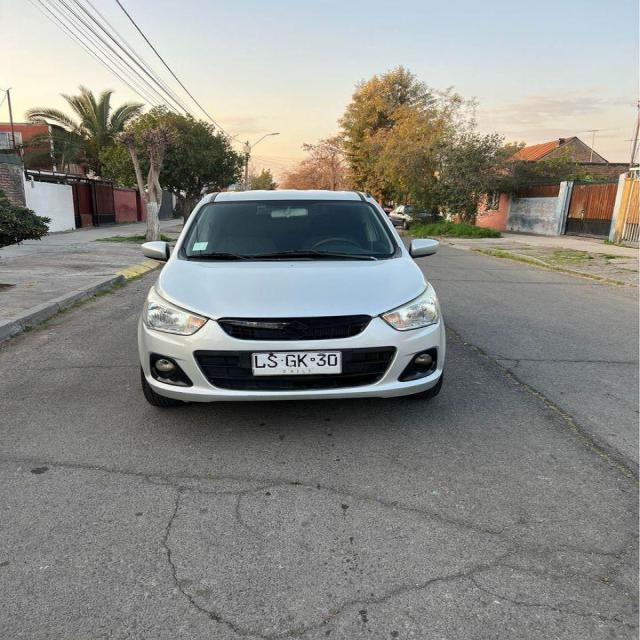patente: (250, 350, 343, 376)
